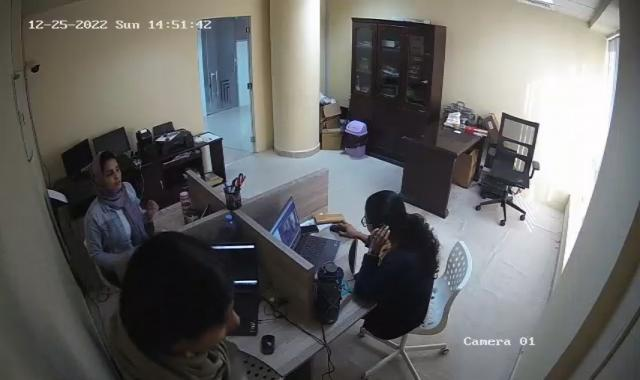no_hairnet: (126, 231, 239, 353), (89, 148, 123, 192), (366, 190, 404, 229)
